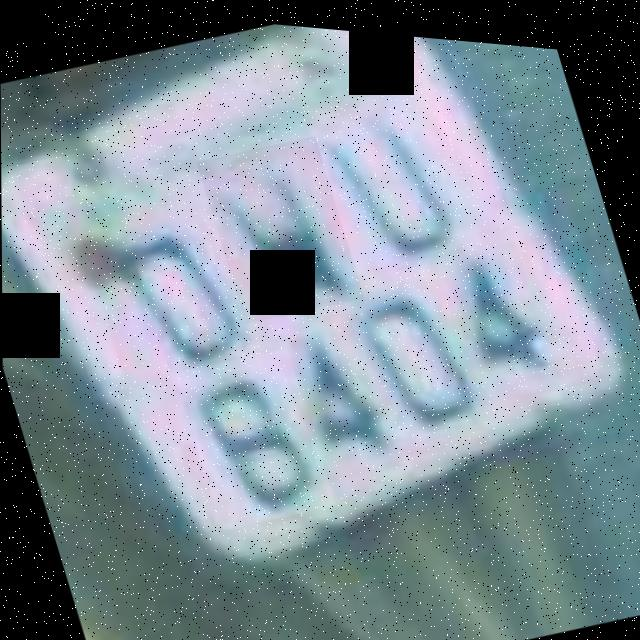0: (338, 241, 503, 448)
3: (488, 404, 640, 628)
4: (253, 281, 423, 489), (416, 200, 585, 409)
8: (173, 334, 336, 534)
O: (78, 188, 257, 397)
U: (275, 62, 481, 282)
W: (196, 121, 364, 327)
